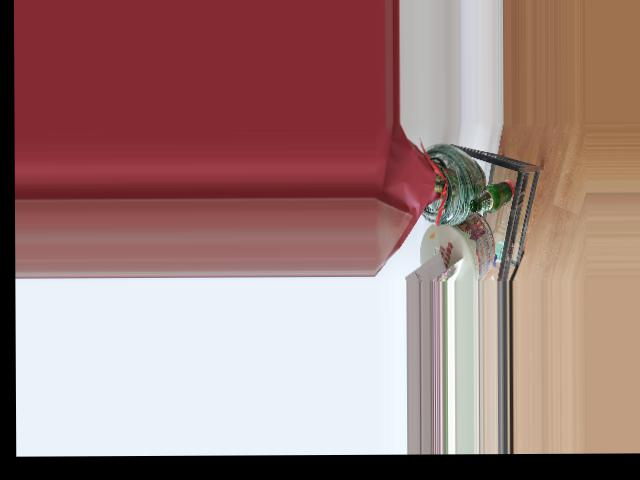beer: (469, 180, 512, 212)
